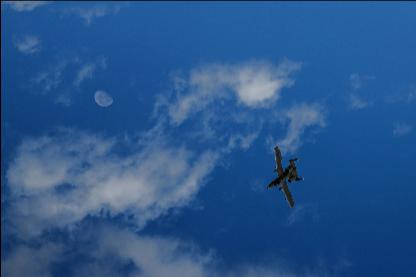A10: (266, 146, 302, 208)
